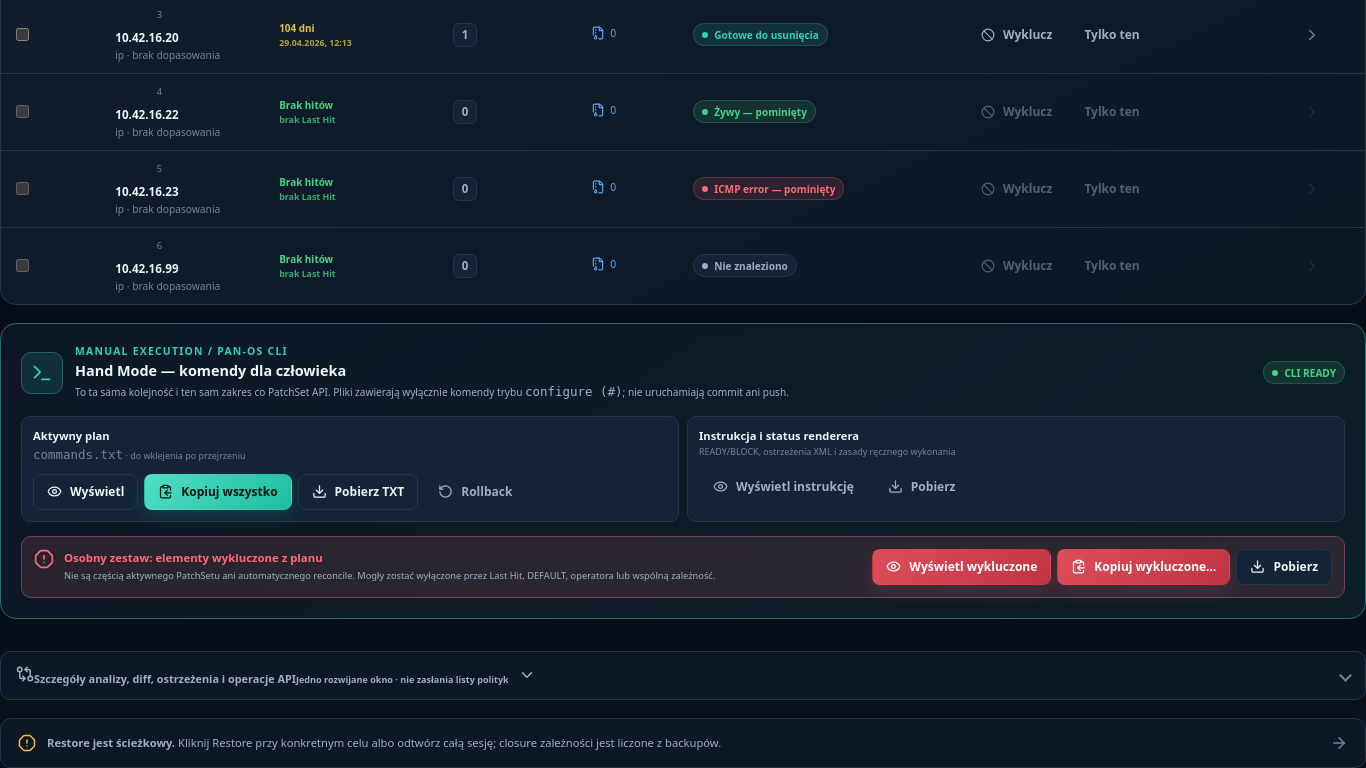
staged execution gates › trzyma wykluczone komendy w osobnym zestawie z dodatkowym ostrzeżeniem
The width and height of the screenshot is (1366, 768).
(page scrolled)
Expected: the text "Osobny zestaw: elementy wykluczone z planu" is shown, [64, 550, 323, 565]
Click the button "Kopiuj wykluczone…" at (1144, 567), box [1057, 549, 1230, 585]
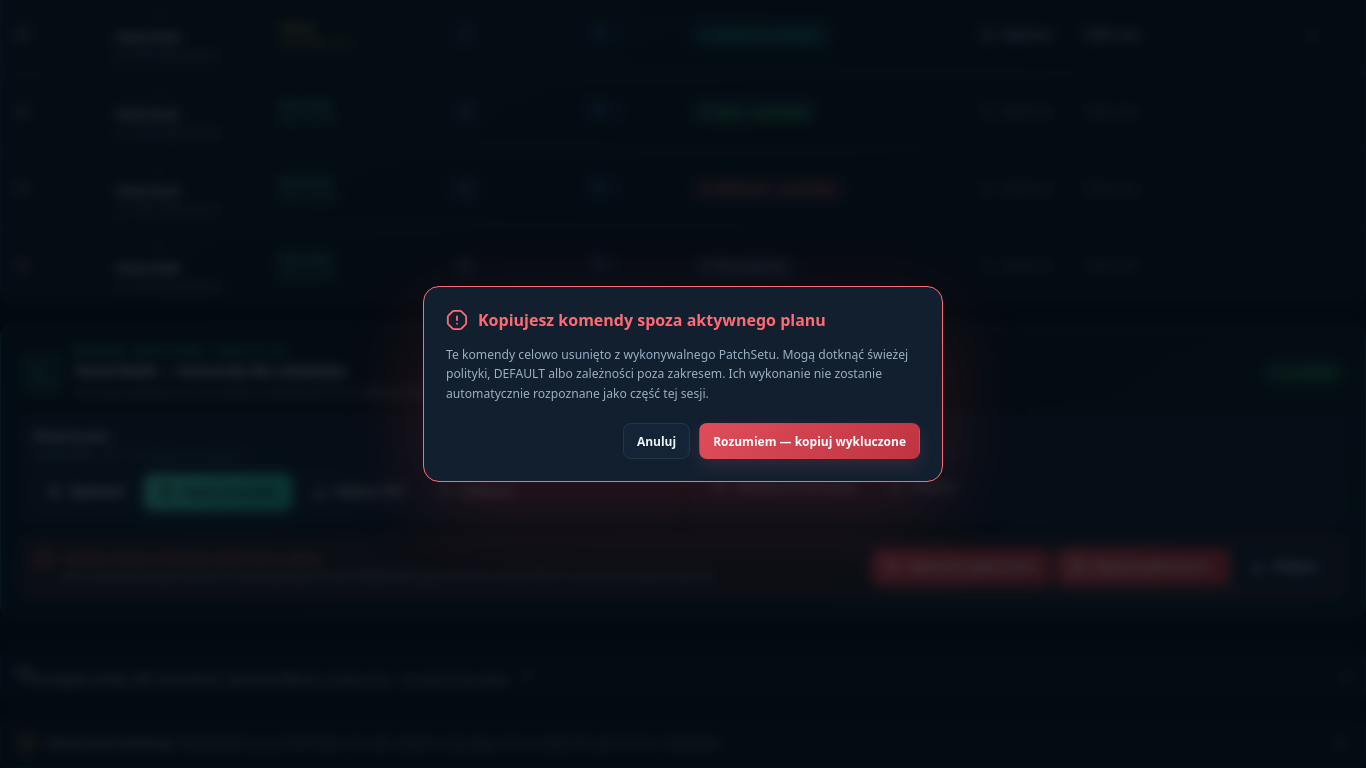
Now the dialog shows "spoza aktywnego planu", box [478, 309, 826, 331]
